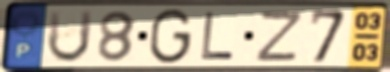7: (308, 8, 348, 65)
8: (95, 9, 137, 64)
G: (146, 7, 195, 66)
L: (198, 10, 236, 62)
U: (44, 8, 96, 66)
Z: (252, 9, 306, 63)
